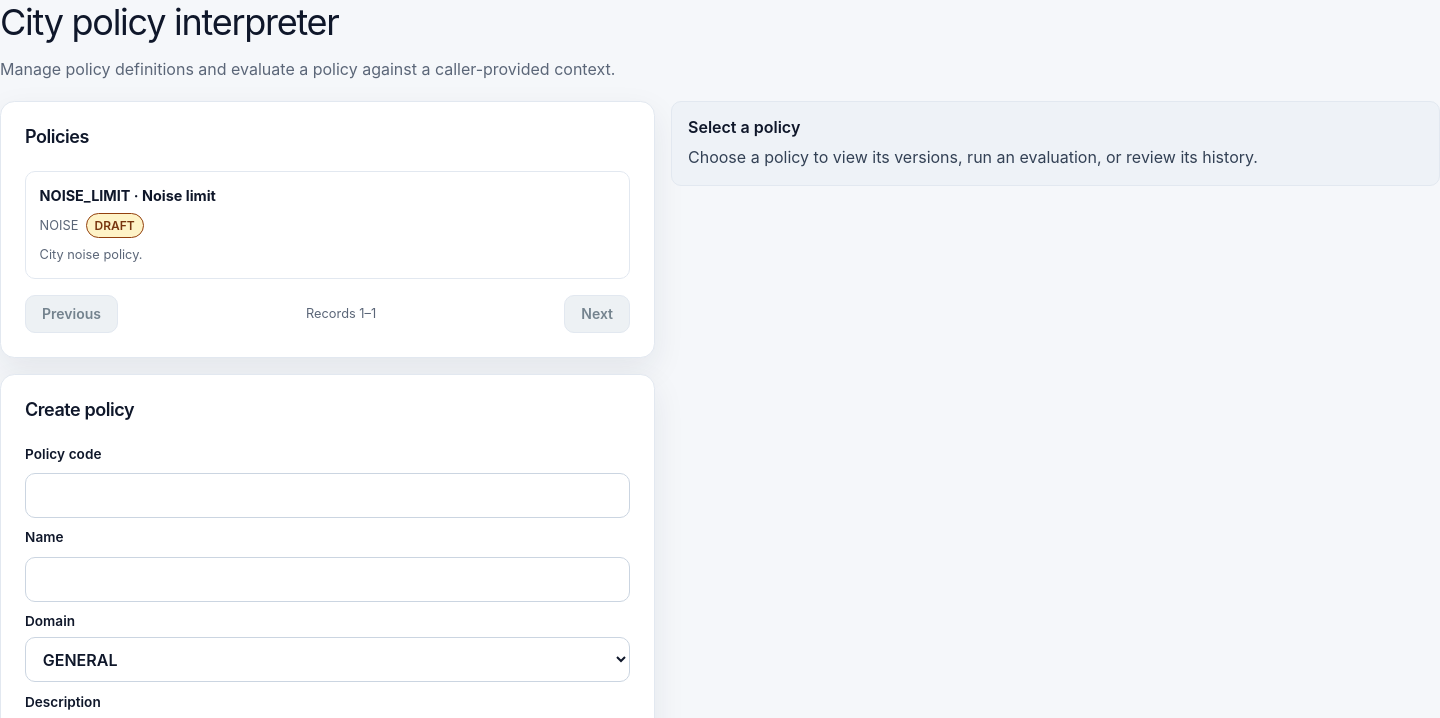
PoliciesPage › keeps permitted version controls enabled for DRAFT policies
Step 1. Click the button "NOISE_LIMIT · Noise limit NOISE DRAFT City noise policy." → (85,195), box [25,171,630,279]
(page scrolled)
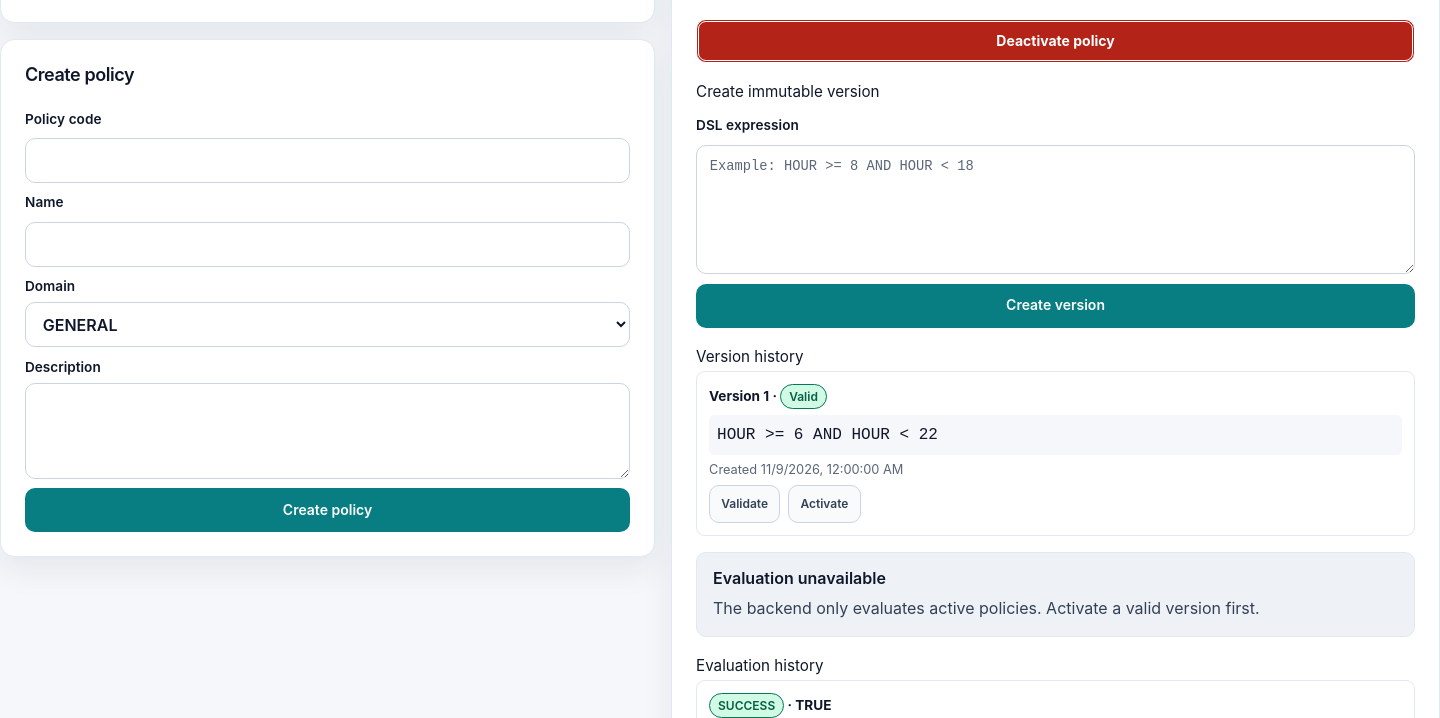
Now the text box labelled "DSL expression" is enabled, box [696,145,1415,274]
Now the button "Create version" is enabled, box [696,284,1415,328]
Now the button "Validate" is enabled, box [709,485,780,523]
